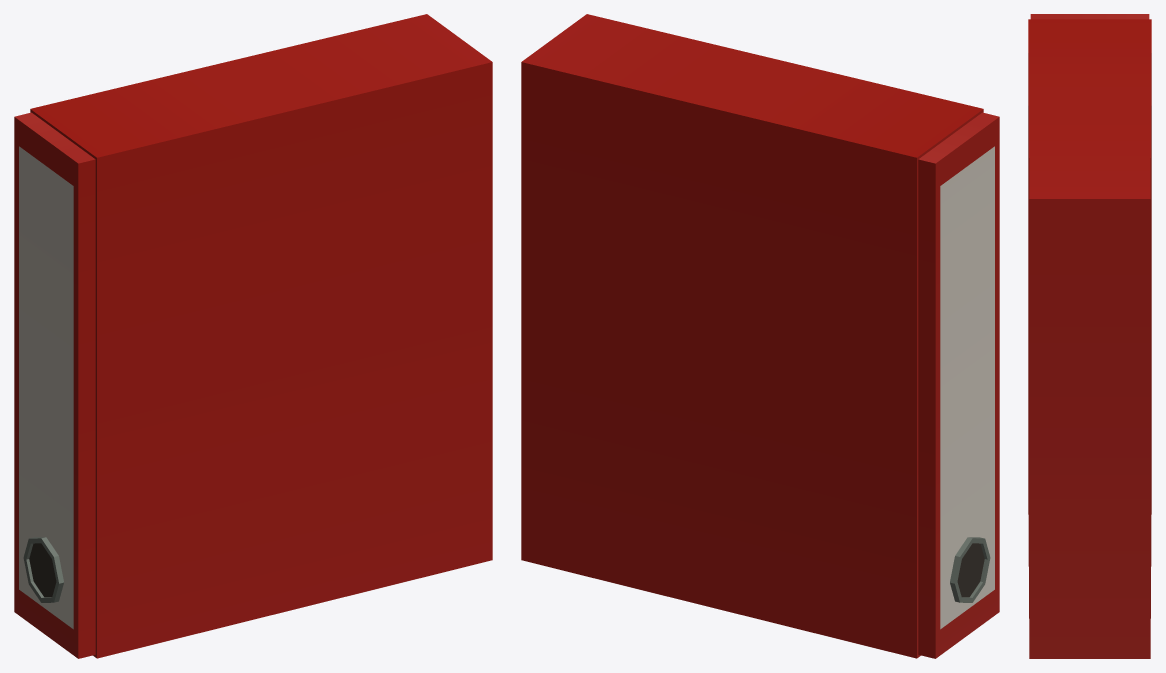
The model's file is SM_CarpesanoRojo.fbx.
3 renders of one model, left to right at view 1: azimuth 30°, elevation 25°; view 2: azimuth 150°, elevation 25°; view 3: azimuth 270°, elevation 25°, orthographic. The views are drawn at different scales.
Visible parts, largest first — view 1: Cube, Cylinder; view 2: Cube, Cylinder; view 3: Cube.
Boxes of the visible parts, x1=… form: Cube: x1=14, y1=14, x2=492, y2=658; Cylinder: x1=23, y1=537, x2=63, y2=602; Cube: x1=521, y1=14, x2=999, y2=658; Cylinder: x1=950, y1=537, x2=990, y2=602; Cube: x1=1028, y1=14, x2=1151, y2=658.
Bounding box in the file's own units: 32.93 × 37.65 × 9.11.
